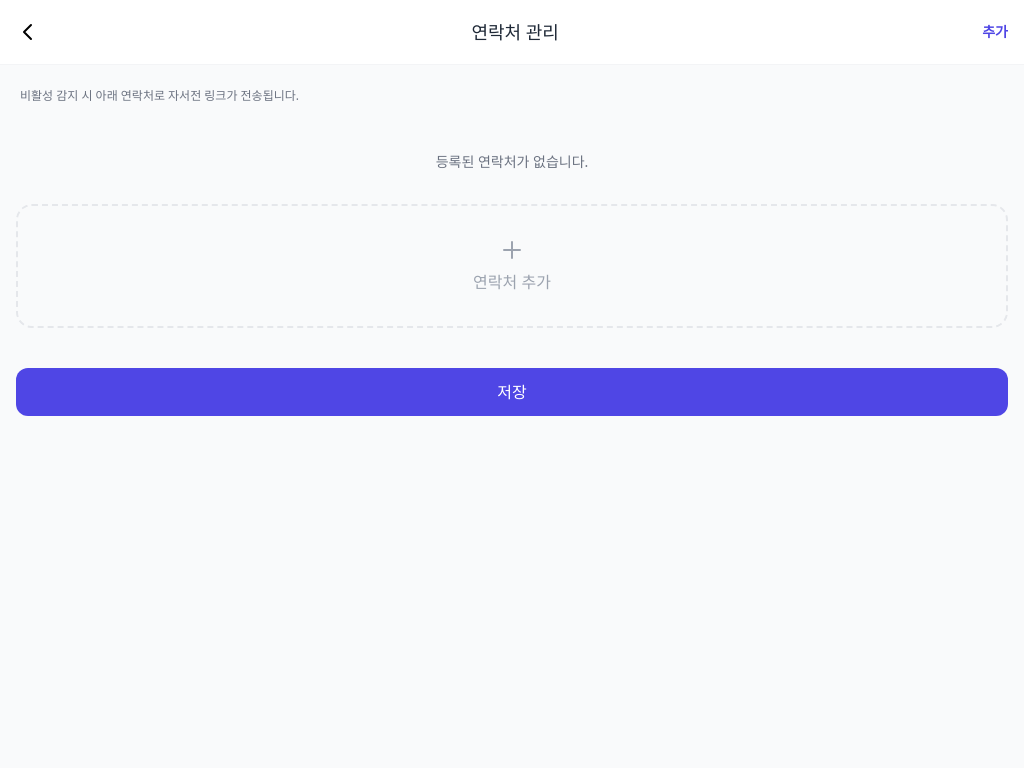
Settings Contacts Flow - Integration Test › AddContactPlaceholder › should add a blank ContactCard when AddContactPlaceholder is clicked
The width and height of the screenshot is (1024, 768).
What coordinates should you click on to do the following:
click the button with test id "add-contact-button"
I would click on:
 (512, 282)
Its box is x1=16 y1=204 x2=1008 y2=328.
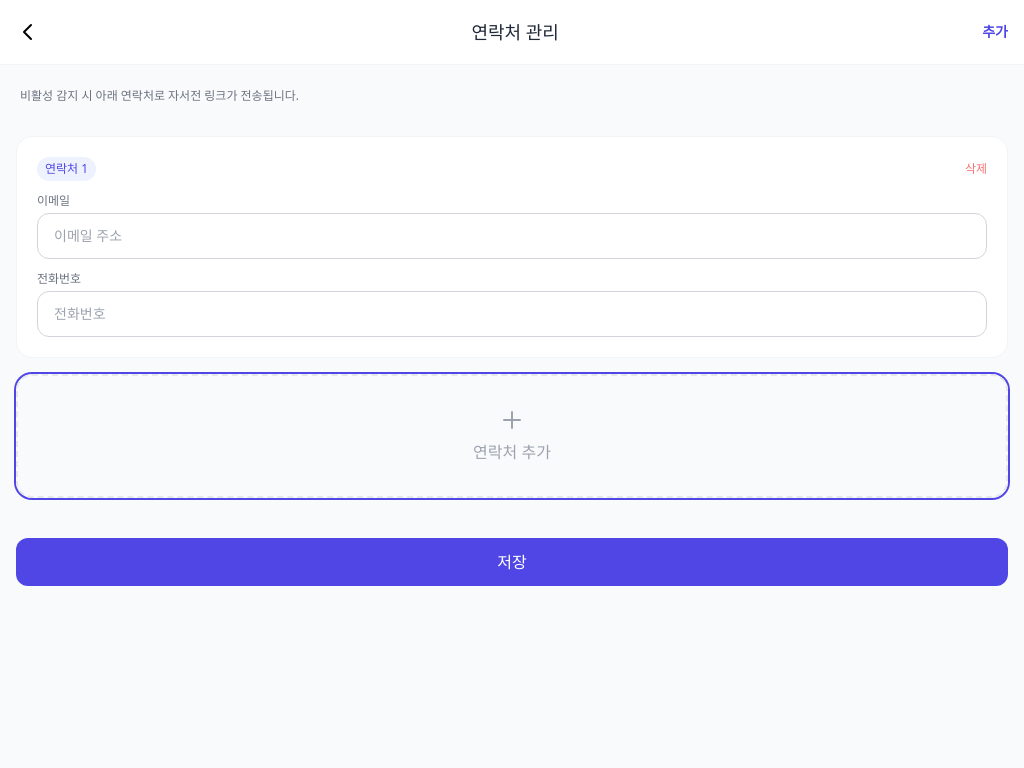
Result: the number of elements with test id "contact-card" is 1 at x1=16 y1=136 x2=1008 y2=358
